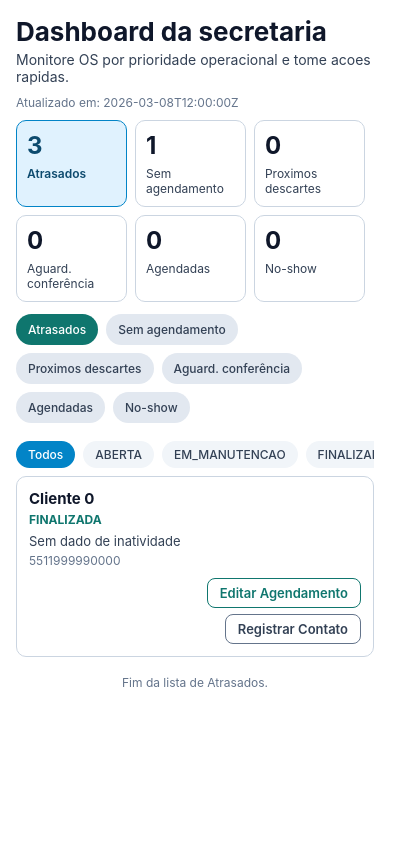
it: SecretaryDashboardScreen › changes filter and displays empty state
Check: the text "Cliente 0" is shown, box [29, 489, 94, 508]
Click the button with test id "filter-chip-SEM_AGENDAMENTO" at coordinates (172, 330), box [106, 314, 238, 345]
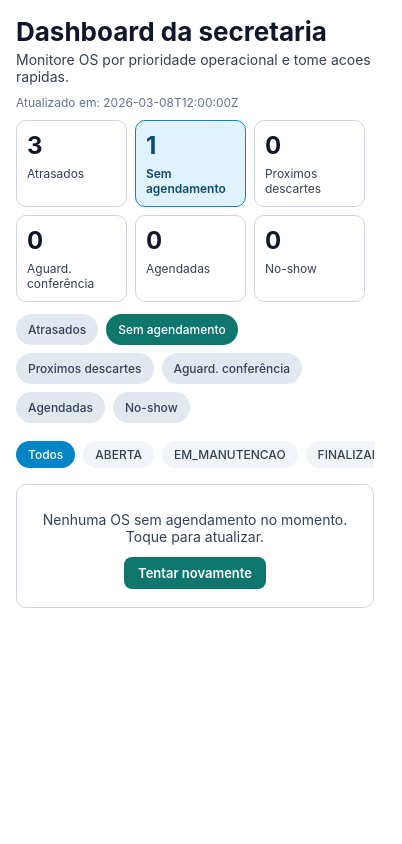
Check: the element with test id "list-state-empty" is shown, box [16, 484, 374, 608]
Check: the text "Nenhuma OS sem agendamento no momento. Toque para atualizar." is shown, box [35, 511, 355, 545]
